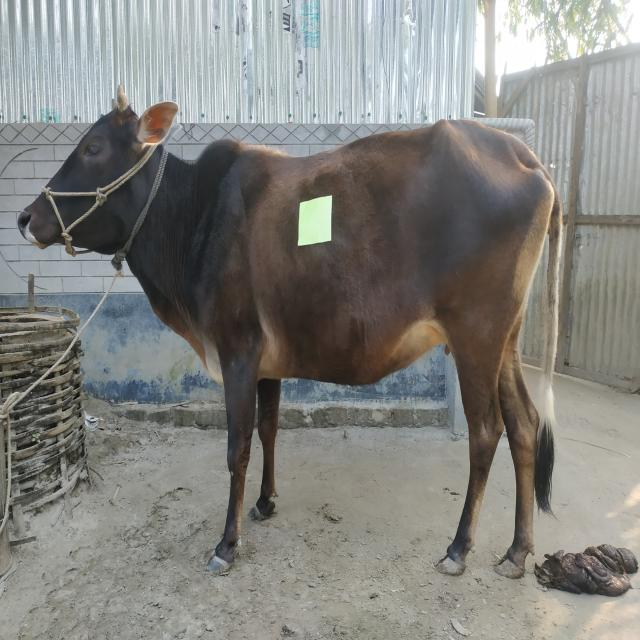badan_sapi: (224, 156, 538, 382)
sapi: (20, 81, 571, 588)
